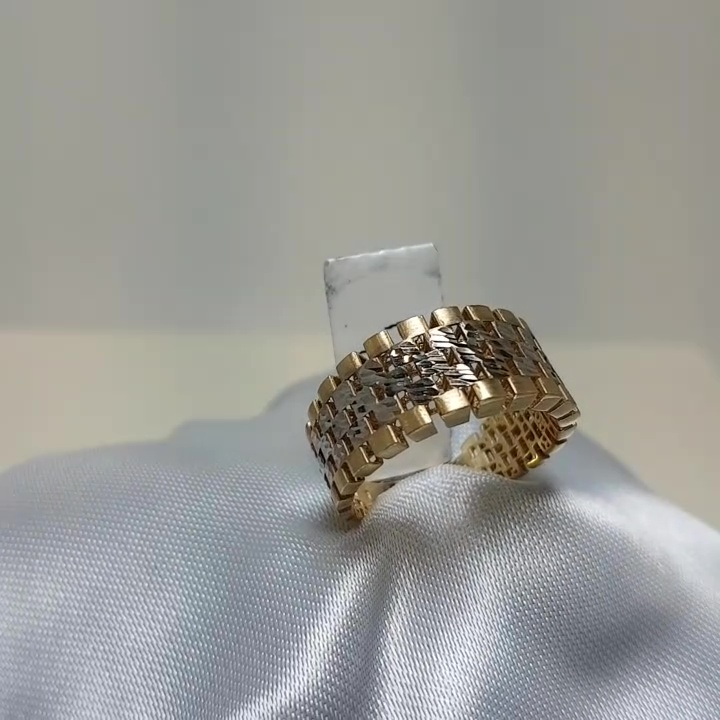Ring 1: (291, 290, 585, 549)
